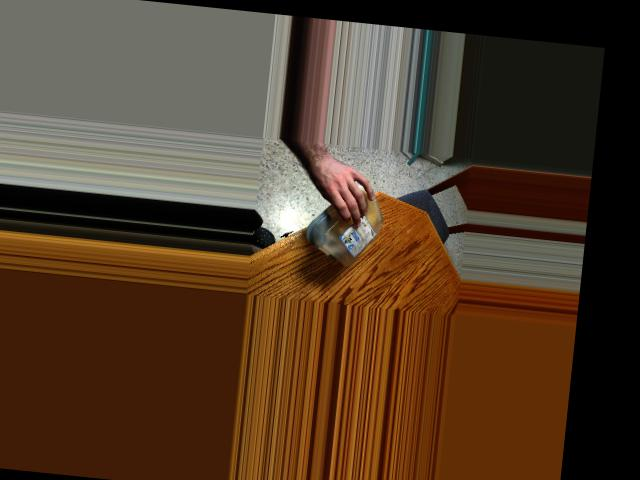cheese: (306, 169, 390, 271)
